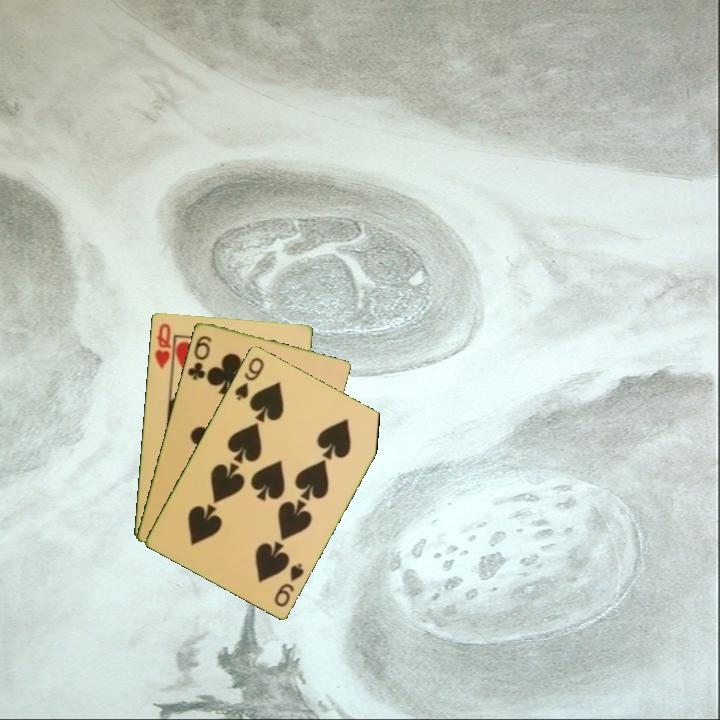6c: (184, 331, 214, 383)
9s: (270, 559, 307, 610), (231, 353, 267, 403)
Qh: (151, 320, 174, 371)
